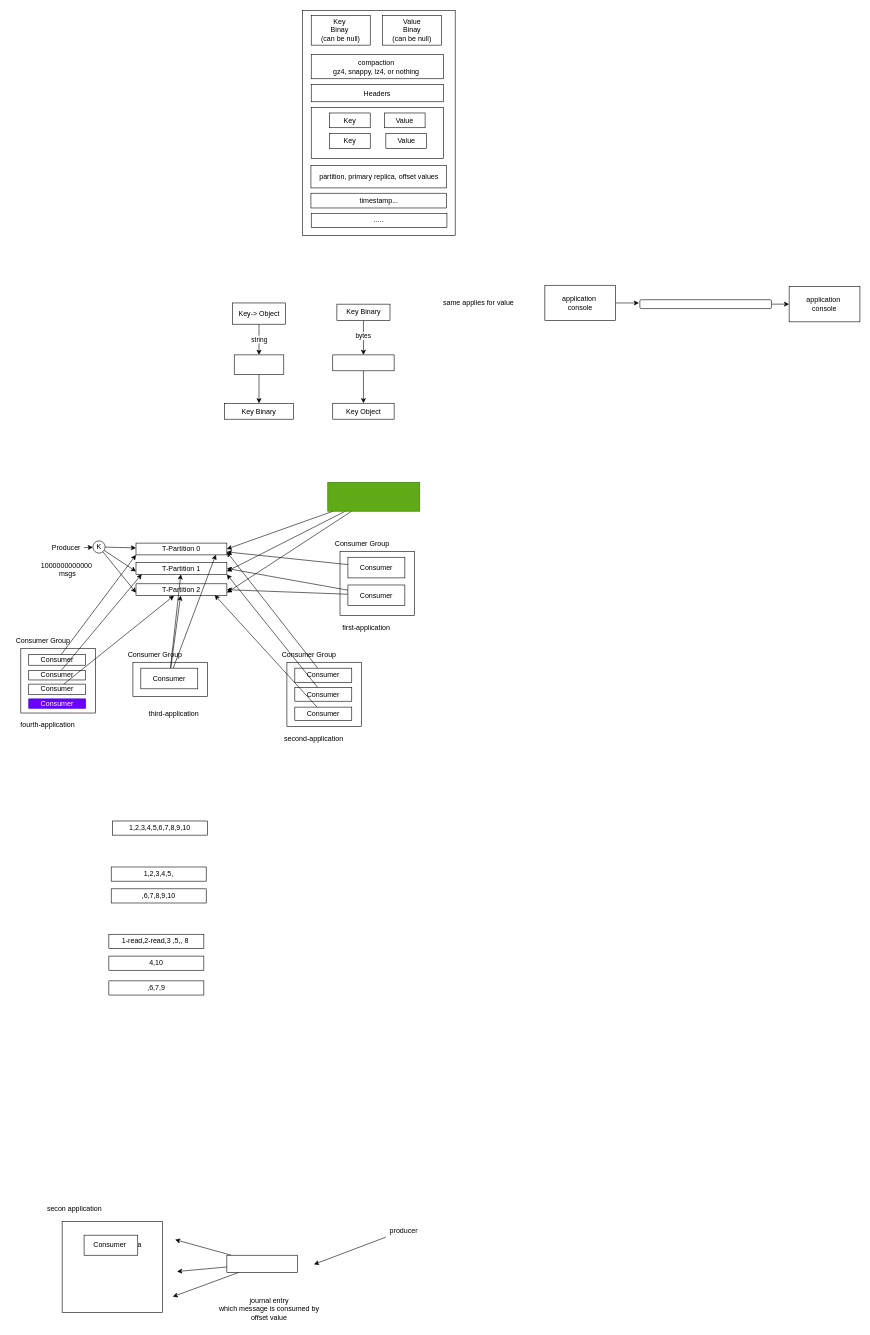
The diagram is 870 pixels wide and 1335 high, and some of its shapes have lost their labels. Here are the shapes that lost their labels. From the top down, the box of each, then its label:
(234, 354, 284, 374): Key Serializer
(332, 354, 394, 371): Key De-serializer
(327, 482, 420, 511): Consumer will read data from all the partitions (default)
(226, 1255, 298, 1272): ESB
